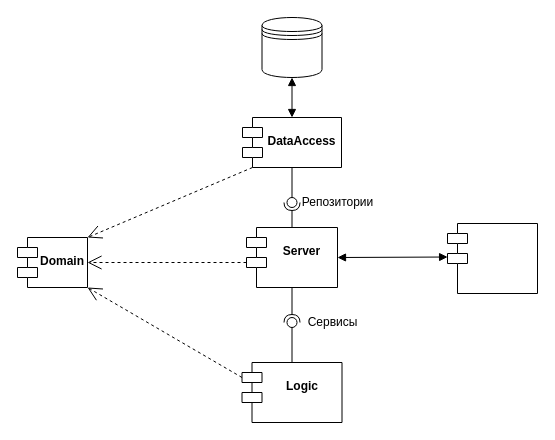
The diagram is 555 pixels wide and 440 high, and some of its shapes have lost their labels. Here are the shapes that lost their labels. From the top down, the box of each, then its label:
(261, 16, 322, 78): Database
(446, 222, 538, 294): Web
